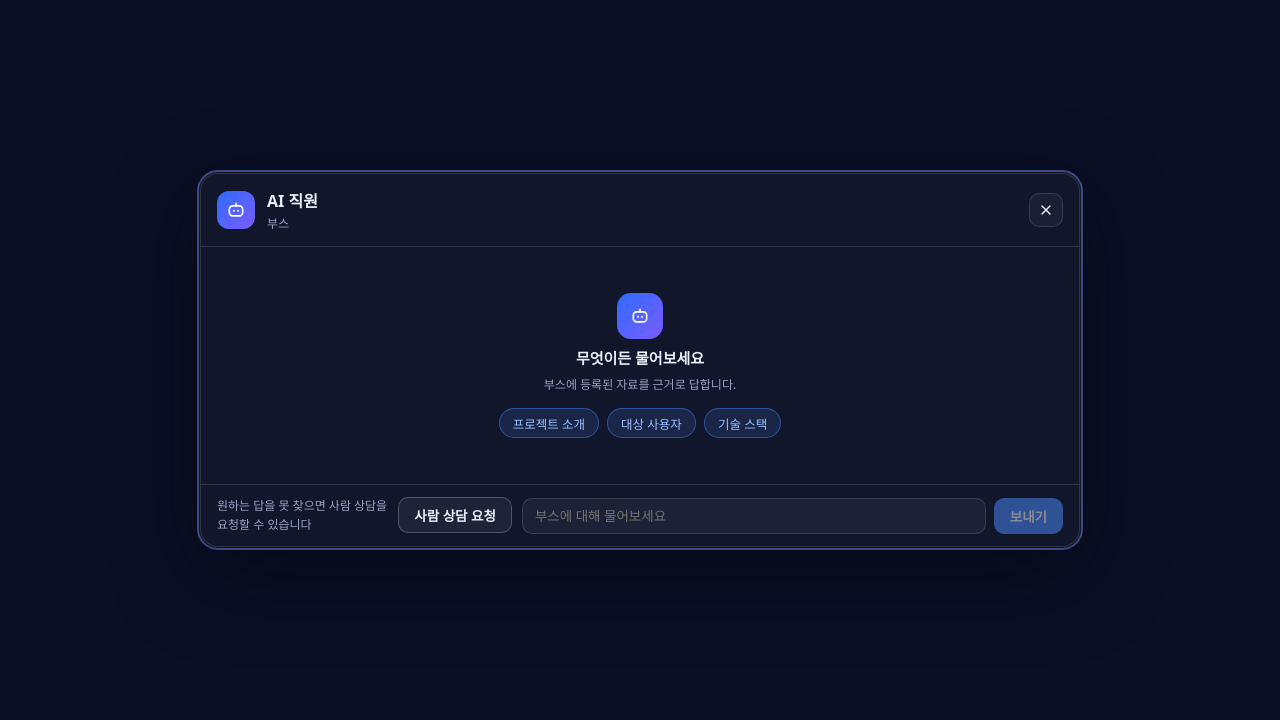
Test: AiChatOverlay 실서버 결선·SSE 렌더링 › Conversation 생성 실패(503)는 재시도 가능한 오류로 보여주고 스트림을 시작하지 않는다
Type "질문" into the field with placeholder "부스에 대해 물어보세요" at (754, 516), box top-left (522, 498), bottom-right (986, 534)
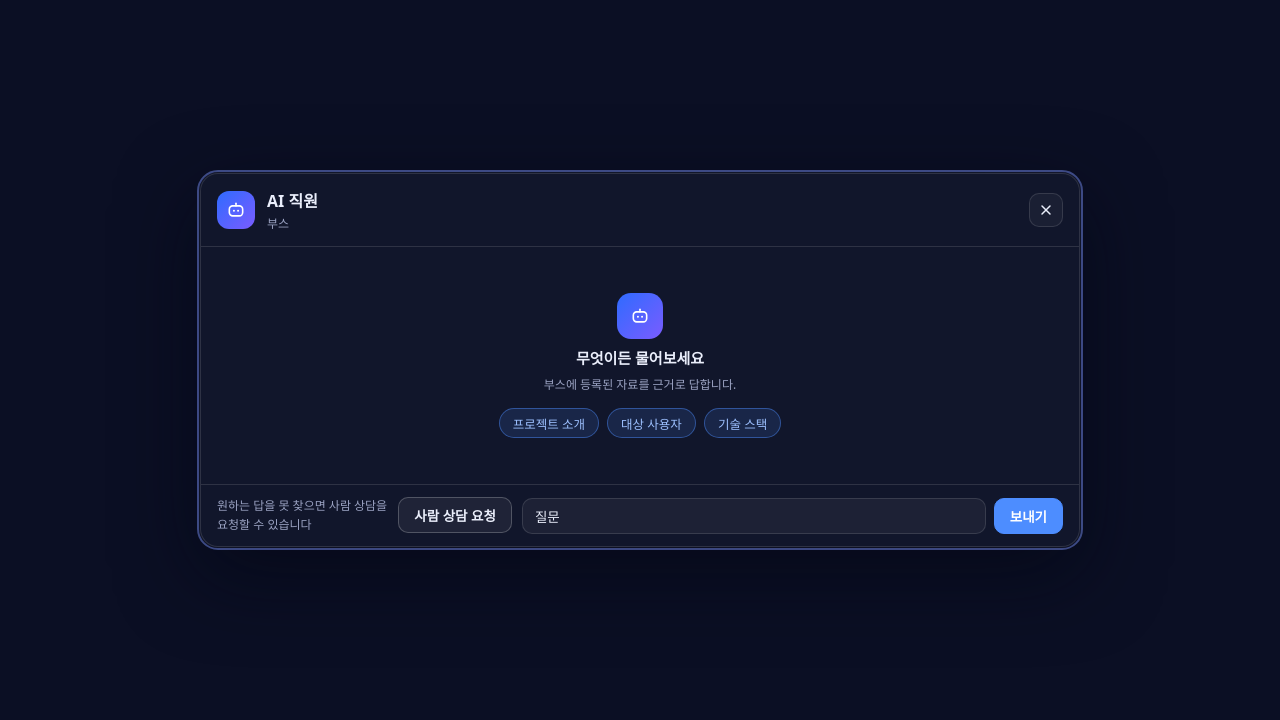
Click the button "보내기" at (1028, 516), box top-left (994, 498), bottom-right (1063, 534)
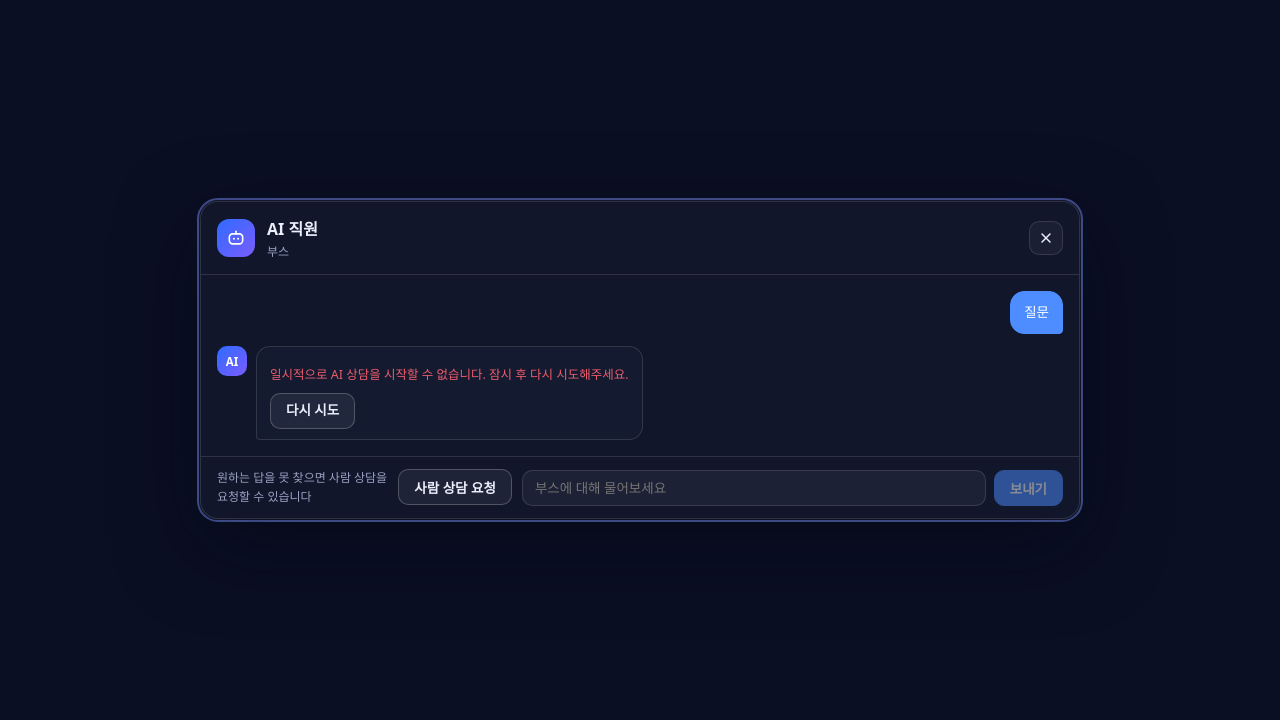
Expected: the message shows "일시적으로 AI 상담을 시작할 수 없습니다. 잠시 후 다시 시도해주세요.", top-left (270, 366), bottom-right (629, 383)
